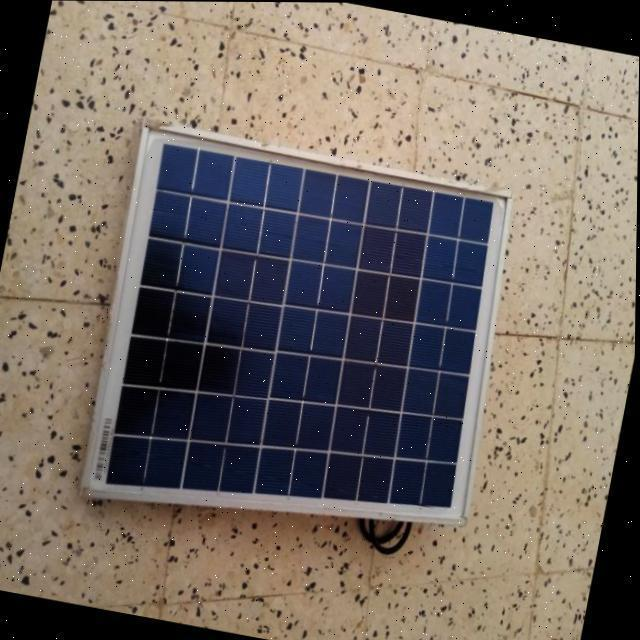Normal Solar Panel: (72, 122, 534, 564)
